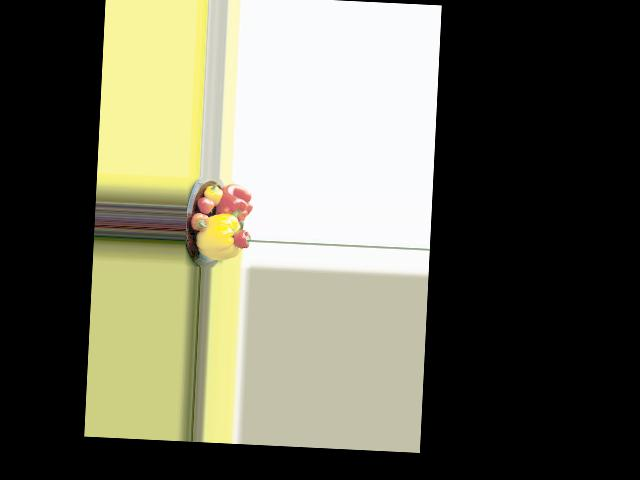bell_pepper: (204, 183, 223, 203)
